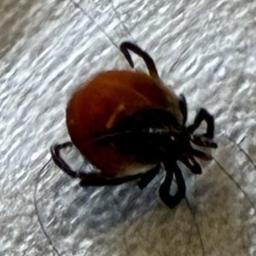Ixodes scapularis: (51, 41, 219, 208)
